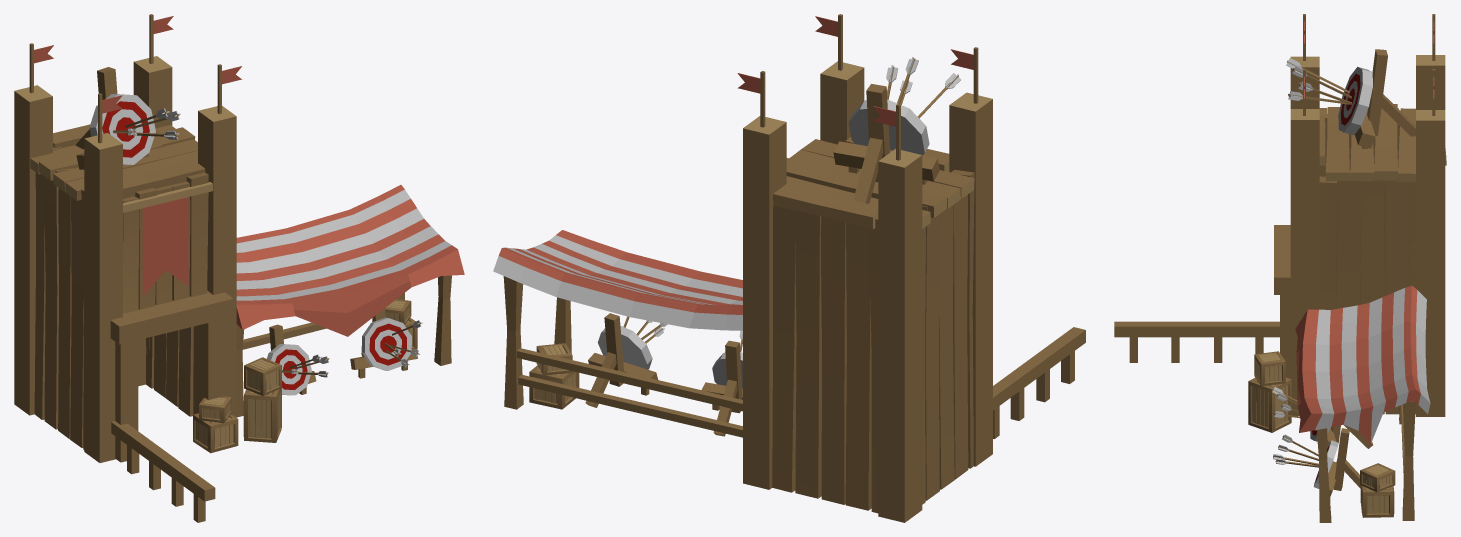
Rendered from Archery Training Grounds.glb.
3 renders of one model, left to right at view 1: azimuth 30°, elevation 25°; view 2: azimuth 150°, elevation 25°; view 3: azimuth 270°, elevation 25°, orthographic. The views are drawn at different scales.
Parts seen in each view (by area): view 1: Archery_FirstAge_Level1; view 2: Archery_FirstAge_Level1; view 3: Archery_FirstAge_Level1.
Part boxes in pixels (x1,y1,x2,y2): Archery_FirstAge_Level1: [14, 14, 464, 522]; Archery_FirstAge_Level1: [493, 14, 1085, 522]; Archery_FirstAge_Level1: [1114, 14, 1446, 522].
Bounding box in the file's own units: 1.23 × 1.14 × 0.9999.
